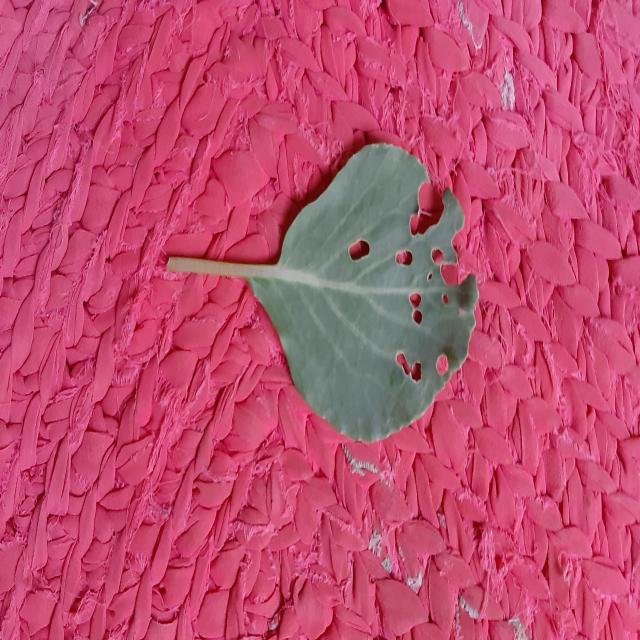Kohlrabi: (168, 144, 478, 442)
